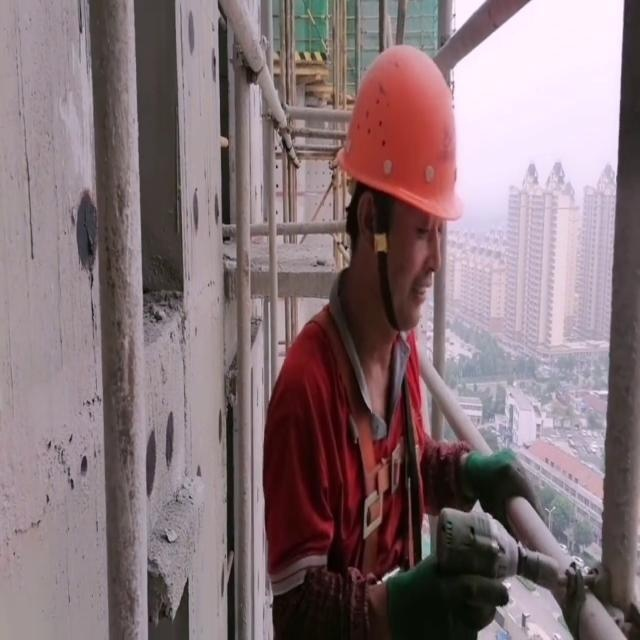Arnes_seguridad: (284, 307, 437, 584)
